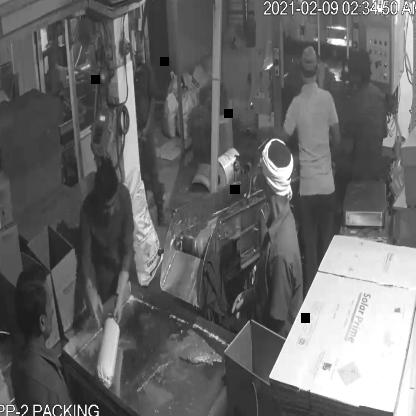glove: (74, 272, 110, 336), (108, 263, 134, 333), (224, 278, 260, 326)
no_glove: (137, 87, 164, 153), (329, 112, 345, 152)
